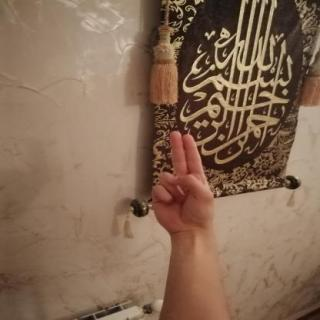TA: (137, 122, 225, 238)
